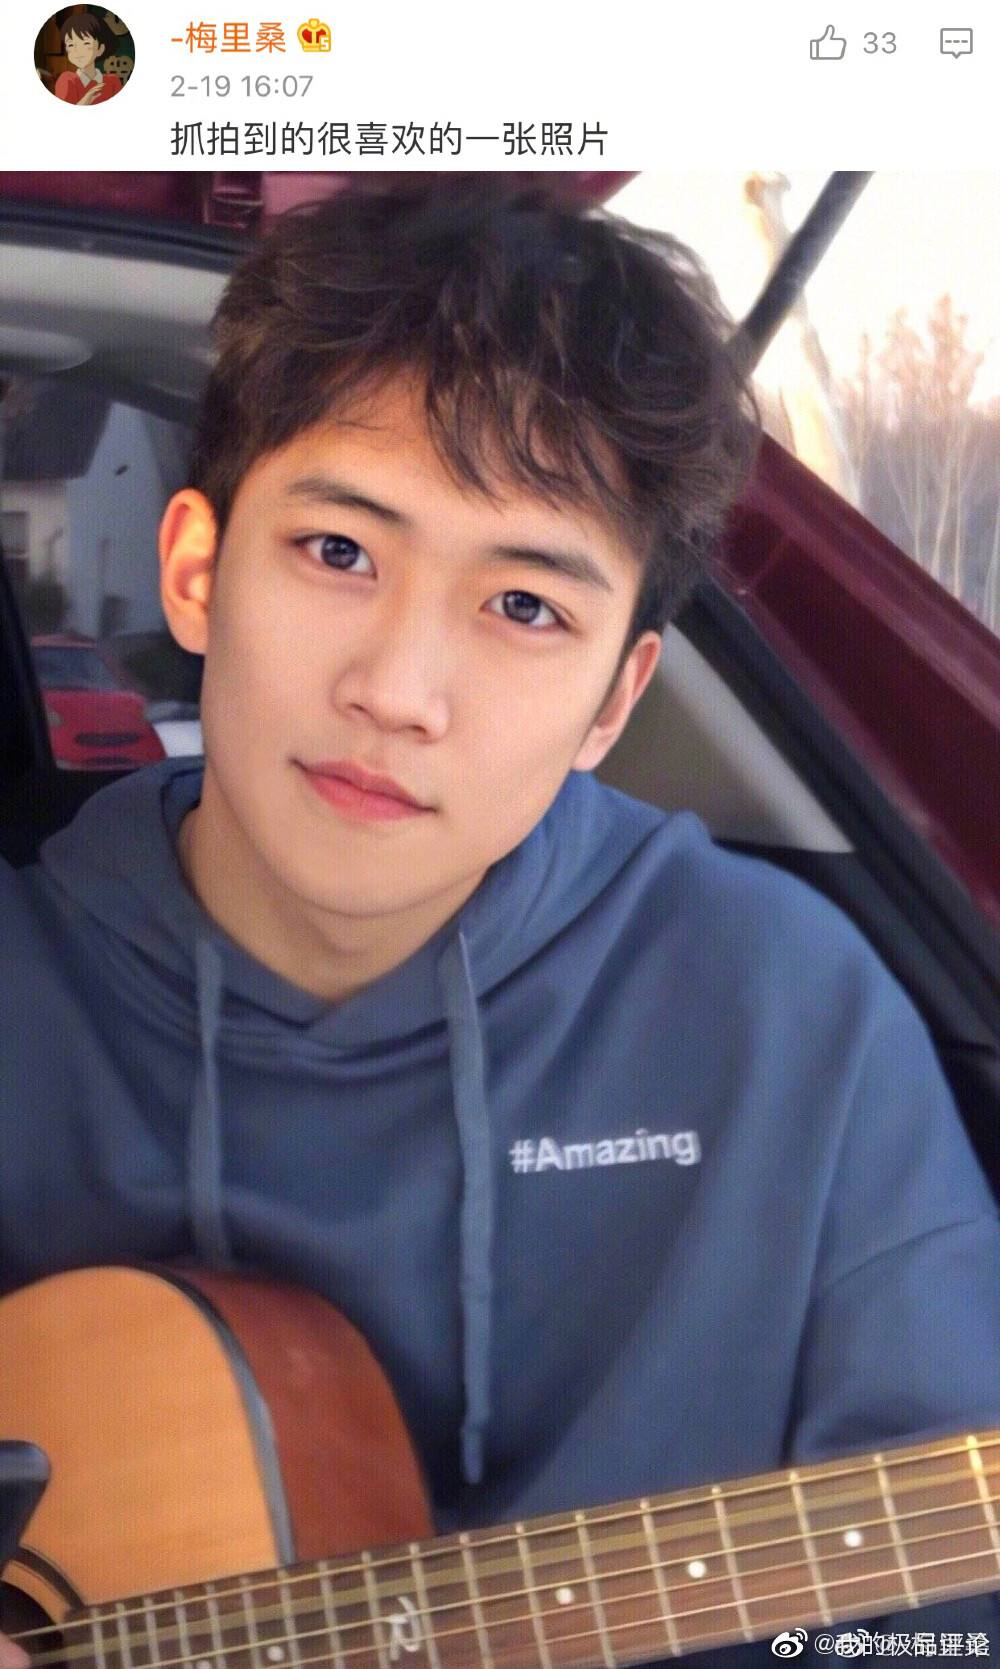person: (140, 213, 740, 1372)
